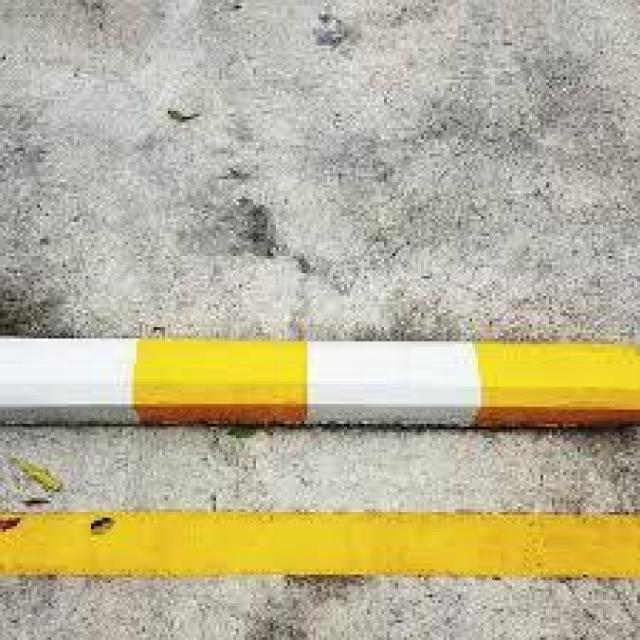curb: (1, 339, 640, 437)
